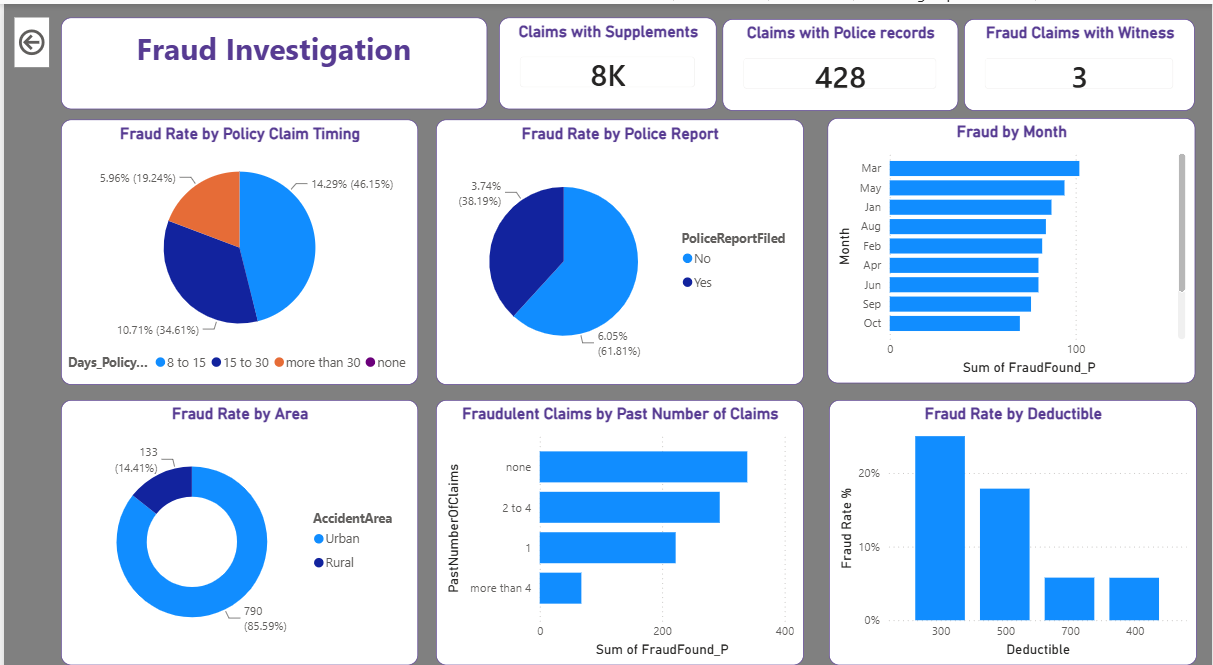

This screenshot's page, from the dashboard's own definition file:
{"tool":"powerbi","page":{"name":"Fraud Investigation Analytics","canvas":[1280,720],"ordinal":1},"visuals":[{"type":"cardVisual","title":"Claims with Police records","fields":{"Data":["Fraud_Car_Data.Claims with Police records"]},"box":[761.9,15.9,249.7,97],"z":0},{"type":"clusteredBarChart","title":"Fraudulent Claims by Past Number of Claims","fields":{"Category":["Fraud_Car_Data.PastNumberOfClaims"],"Y":["Sum(Fraud_Car_Data.FraudFound_P)"]},"box":[458.1,419.9,389.7,281.5],"z":1000},{"type":"columnChart","title":"Fraud Rate by Deductible","fields":{"Category":["Fraud_Car_Data.Deductible"],"Y":["Fraud_Car_Data.Fraud Rate %"]},"box":[874.8,419.9,389.7,281.5],"z":2000},{"type":"pieChart","title":"Fraud Rate by Police Report","fields":{"Category":["Fraud_Car_Data.PoliceReportFiled"],"Y":["Fraud_Car_Data.Fraud Rate %"]},"box":[458.1,122.5,389.7,281.5],"z":3000},{"type":"barChart","title":"Fraud by Month","fields":{"Category":["Fraud_Car_Data.Month"],"Y":["Sum(Fraud_Car_Data.FraudFound_P)"]},"box":[873.2,120.9,389.7,281.5],"z":4000},{"type":"donutChart","title":"Fraud Rate by Area","fields":{"Y":["Sum(Fraud_Car_Data.FraudFound_P)"],"Category":["Fraud_Car_Data.AccidentArea"]},"box":[60.4,419.9,378.6,281.5],"z":5000},{"type":"cardVisual","title":"Claims with Supplements","fields":{"Data":["Fraud_Car_Data.Claims with Supplements"]},"box":[524.9,14.3,230.6,97],"z":6000},{"type":"pieChart","title":"Fraud Rate by Policy Claim Timing","fields":{"Category":["Fraud_Car_Data.Days_Policy_Claim"],"Y":["Fraud_Car_Data.Fraud Rate %"]},"box":[60.4,122.5,378.6,281.5],"z":7000},{"type":"textbox","box":[60.4,14.3,451.7,97],"z":8000},{"type":"actionButton","box":[11.1,14.3,36.6,52.5],"z":9000},{"type":"cardVisual","title":"Fraud Claims with Witness","fields":{"Data":["Fraud_Car_Data.Claims with Witness"]},"box":[1018,15.9,245,97],"z":10000}]}

Visuals, with their boxes in screenshot pixels (x1, y1, x2, y2), scaled from the page's 1280x720 canvas onto the 1213x665 screenshot:
"Claims with Police records" cardVisual: {"x1": 722, "y1": 15, "x2": 959, "y2": 104}
"Fraudulent Claims by Past Number of Claims" clusteredBarChart: {"x1": 434, "y1": 388, "x2": 803, "y2": 648}
"Fraud Rate by Deductible" columnChart: {"x1": 829, "y1": 388, "x2": 1198, "y2": 648}
"Fraud Rate by Police Report" pieChart: {"x1": 434, "y1": 113, "x2": 803, "y2": 373}
"Fraud by Month" barChart: {"x1": 827, "y1": 112, "x2": 1197, "y2": 372}
"Fraud Rate by Area" donutChart: {"x1": 57, "y1": 388, "x2": 416, "y2": 648}
"Claims with Supplements" cardVisual: {"x1": 497, "y1": 13, "x2": 716, "y2": 103}
"Fraud Rate by Policy Claim Timing" pieChart: {"x1": 57, "y1": 113, "x2": 416, "y2": 373}
textbox: {"x1": 57, "y1": 13, "x2": 485, "y2": 103}
actionButton: {"x1": 11, "y1": 13, "x2": 45, "y2": 62}
"Fraud Claims with Witness" cardVisual: {"x1": 965, "y1": 15, "x2": 1197, "y2": 104}
